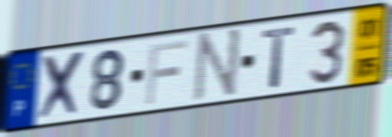3: (305, 16, 347, 87)
8: (88, 47, 126, 113)
F: (143, 37, 190, 107)
N: (190, 25, 244, 104)
T: (260, 24, 299, 90)
X: (37, 48, 88, 124)
